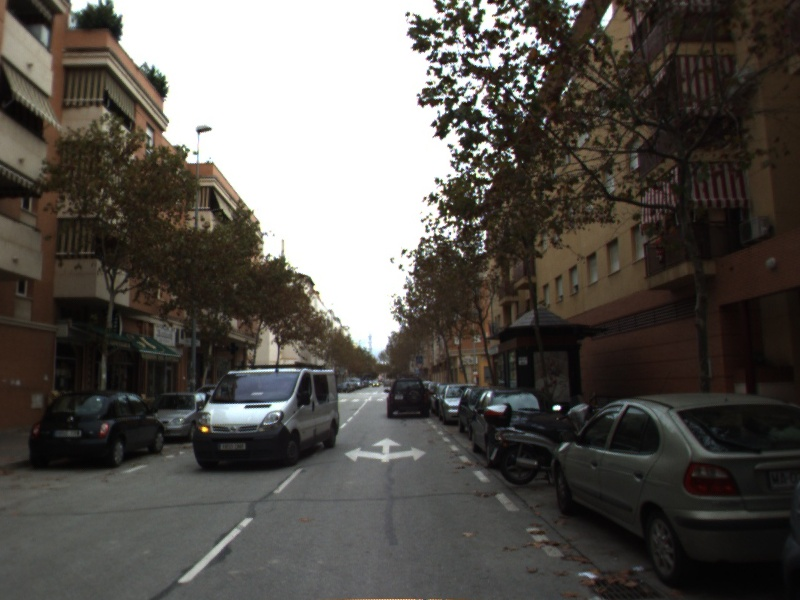STRAIGHT_LEFT_RIGHT: (342, 435, 428, 464)
